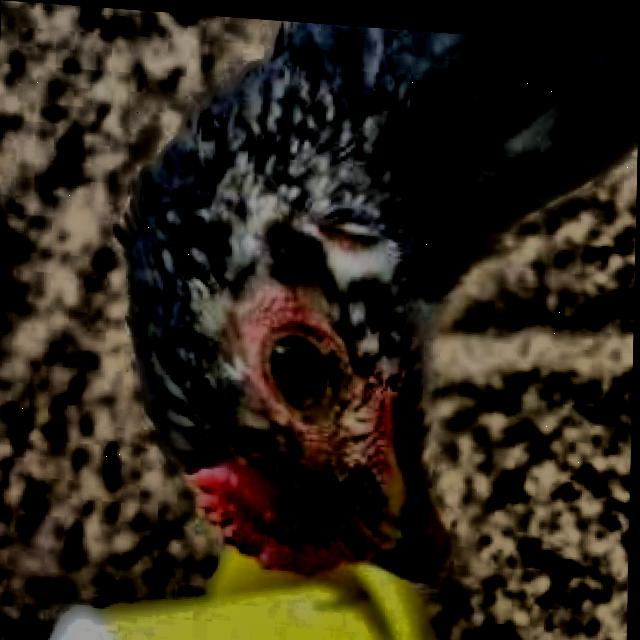Healthy: (257, 307, 336, 419)
